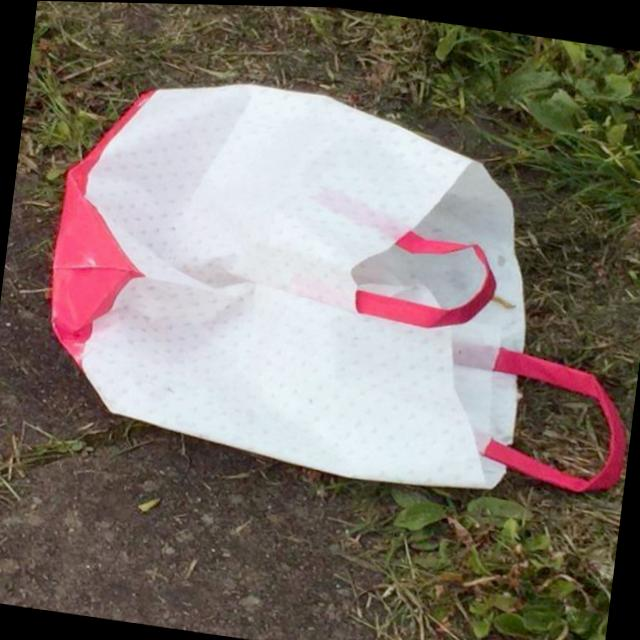Paper: (29, 51, 640, 518)
